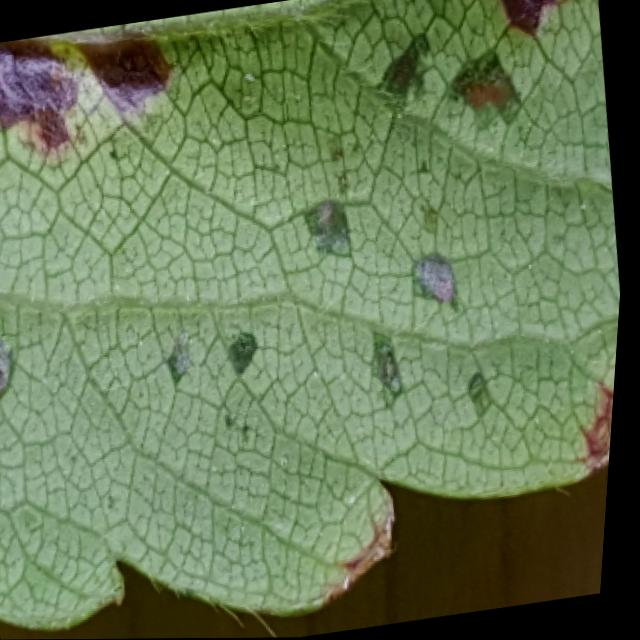Angular Leafspot: (0, 0, 623, 609)
